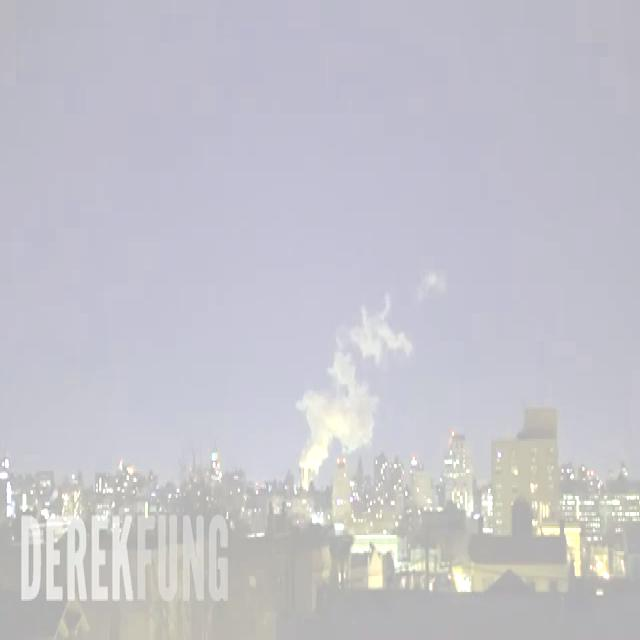smoke: (298, 295, 412, 466)
